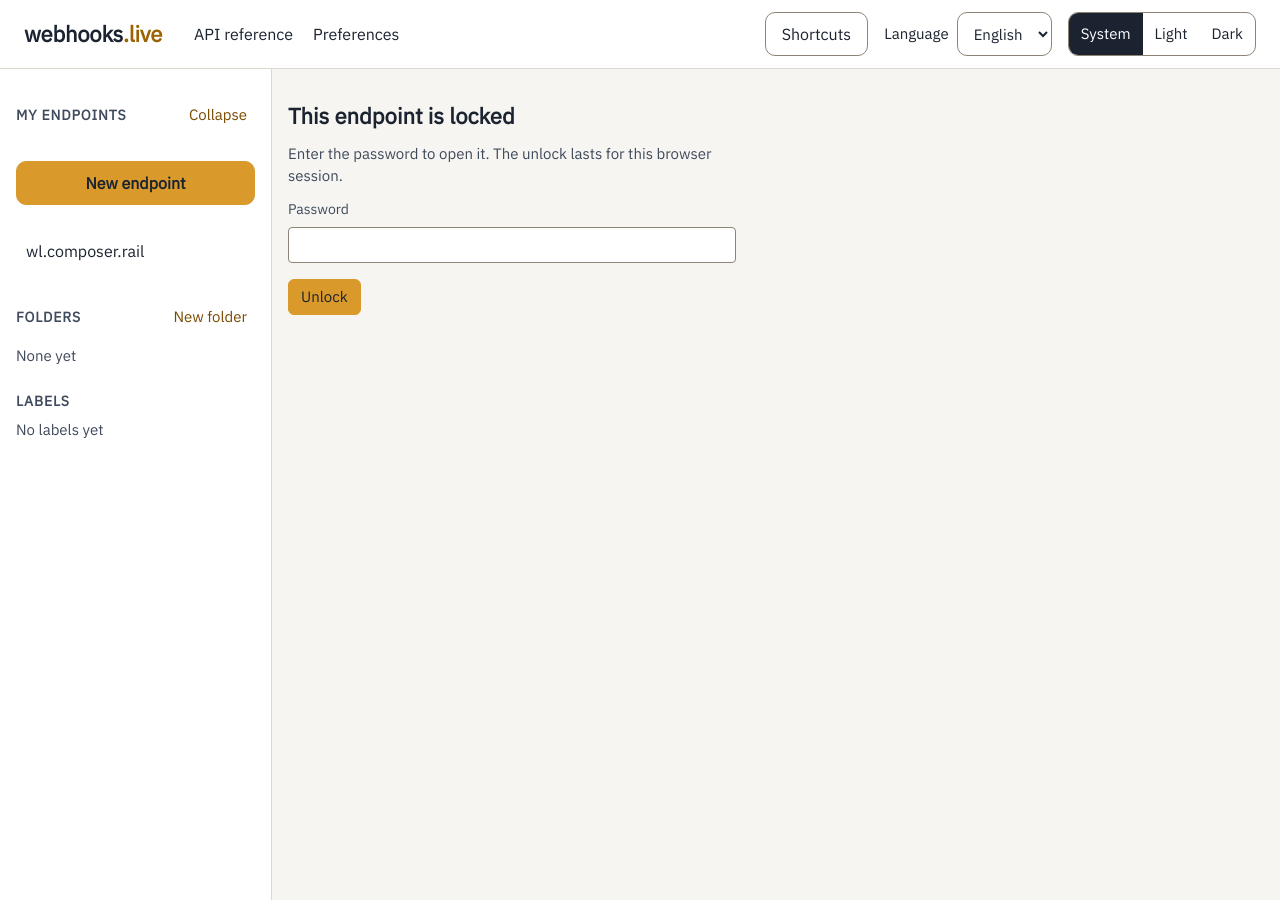
unlock page › blocks the form while rate limited and counts down from Retry-After
Type "wrong-guess" into the password field labelled "Password" at coordinates (512, 245), box [288,227,736,263]
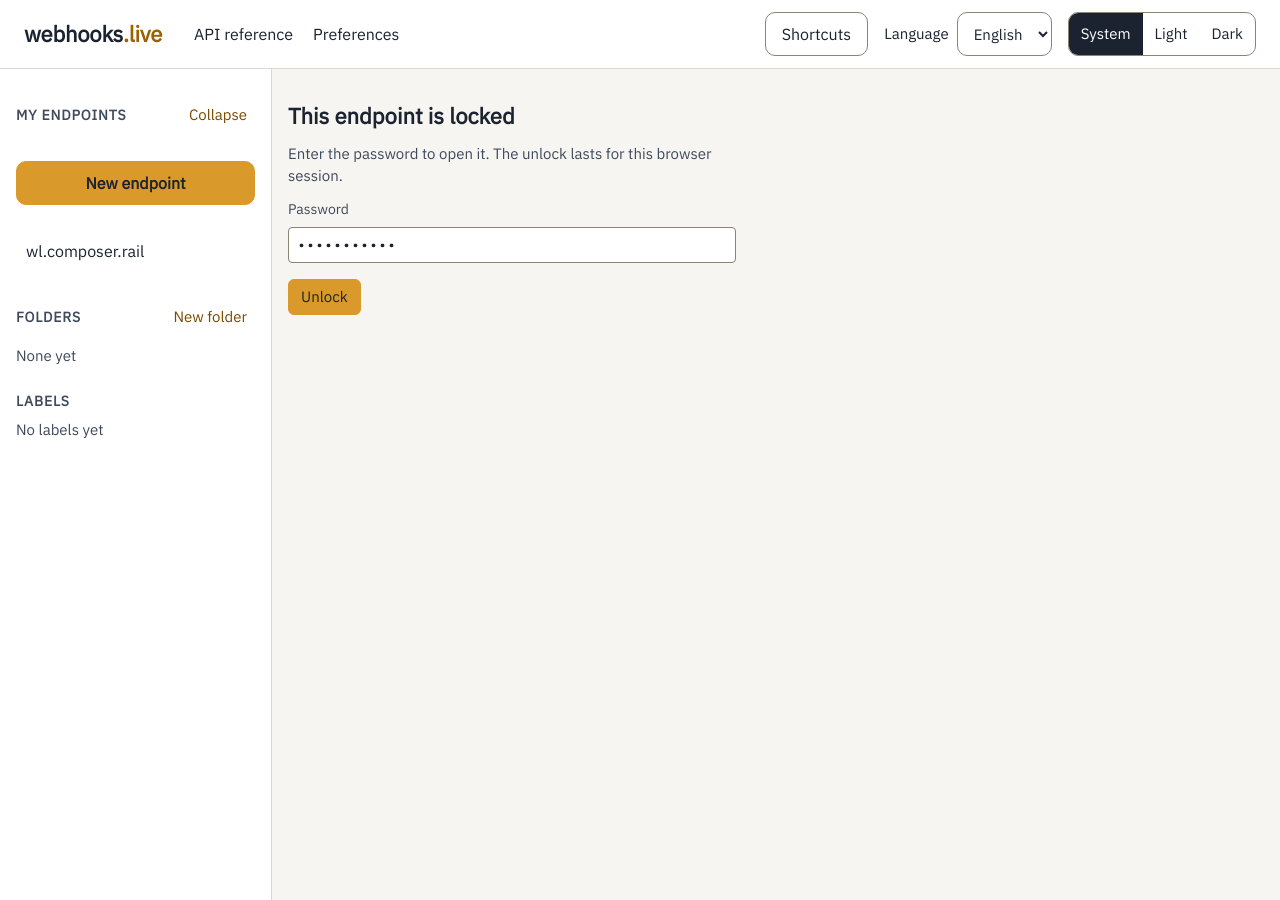
Click the button "Unlock" at coordinates (324, 297), box [288,279,361,315]
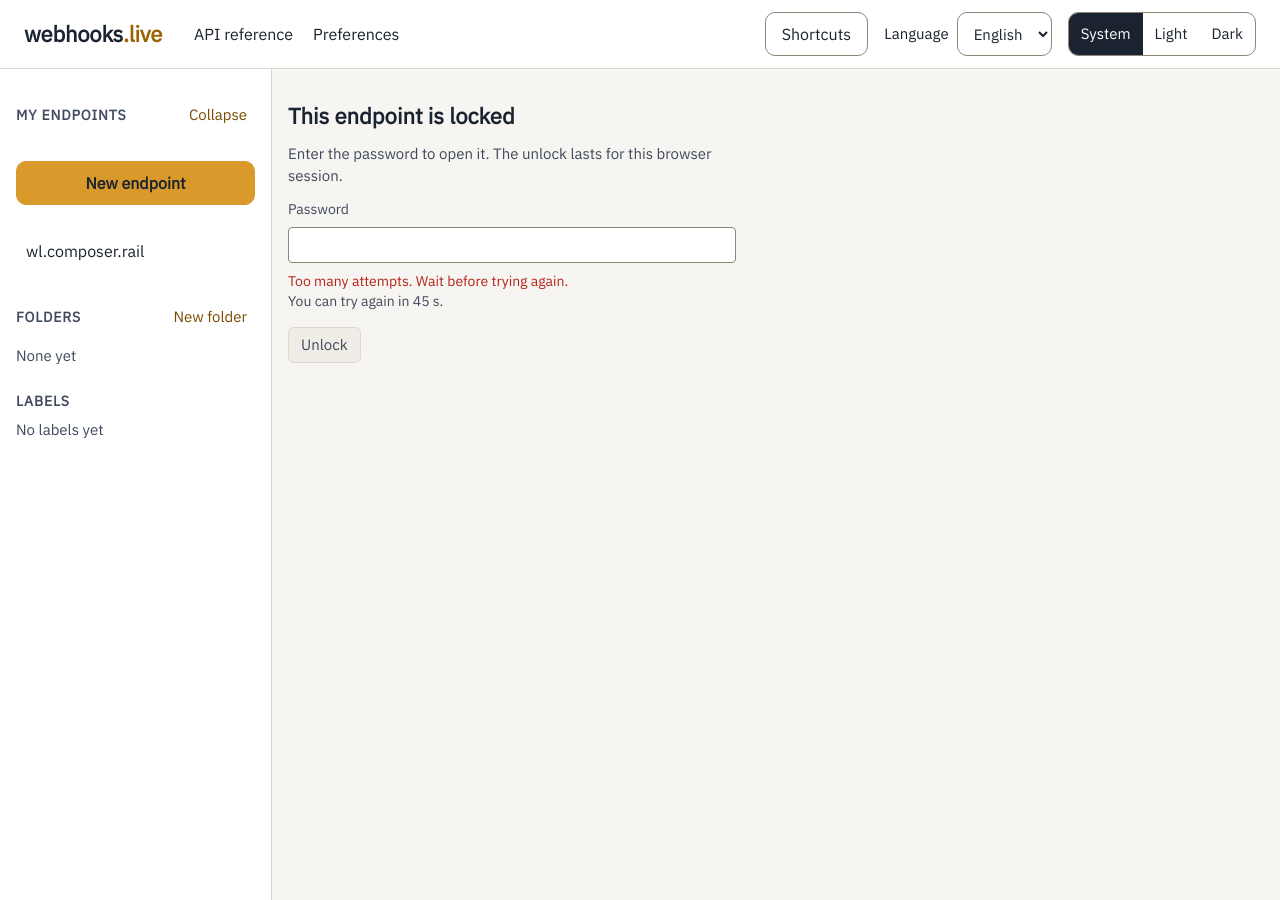
Check: the text "Too many attempts. Wait before trying again." is shown, box [288,272,568,290]
Check: the text "You can try again in 45 s." is shown, box [288,292,443,310]
Check: the button "Unlock" is disabled, box [288,327,361,363]
